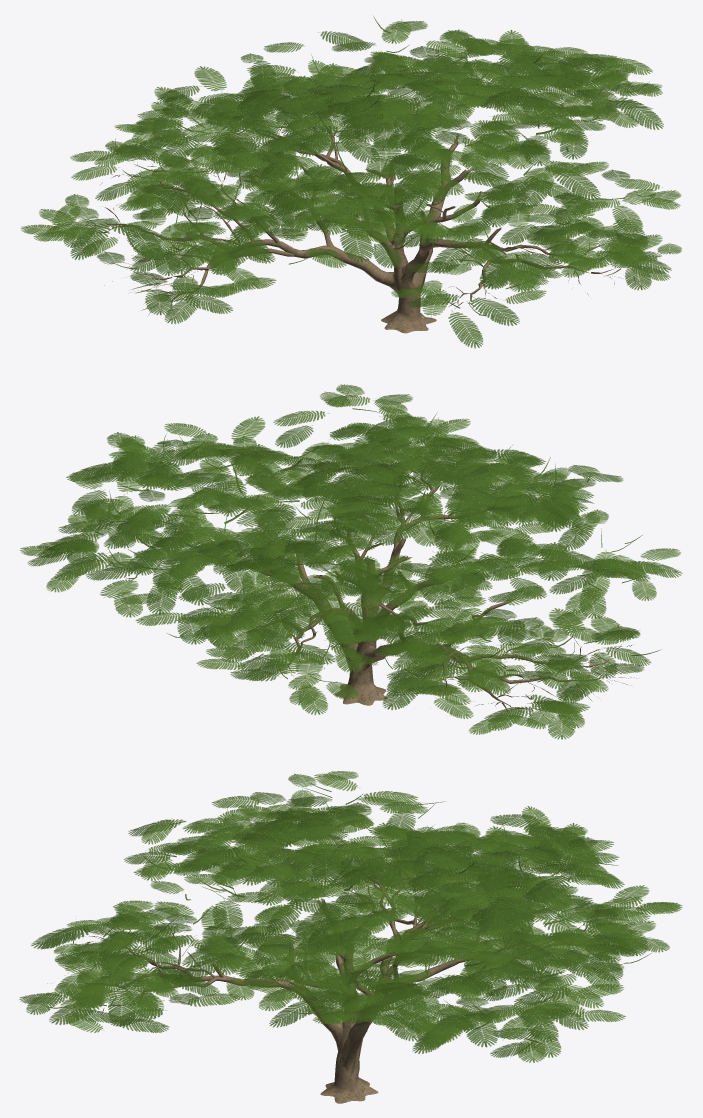
Rendered from poinciana_b_far.glb.
3 views of the same model, one above another, from view 1: azimuth 30°, elevation 25°; view 2: azimuth 150°, elevation 25°; view 3: azimuth 270°, elevation 25° (orthographic). The views are drawn at different scales.
Visible parts, largest first — view 1: Delonix_regia_HD_Delonix leaf 01_0; view 2: Delonix_regia_HD_Delonix leaf 01_0; view 3: Delonix_regia_HD_Delonix leaf 01_0.
Boxes of the visible parts, box(x1,y1,x2,y2) form: Delonix_regia_HD_Delonix leaf 01_0: box(21, 16, 681, 348); Delonix_regia_HD_Delonix leaf 01_0: box(20, 384, 682, 739); Delonix_regia_HD_Delonix leaf 01_0: box(19, 771, 682, 1103).
Size of the model in its own units: 13.12 by 5.57 by 12.84.
4 materials, 4 textured.
